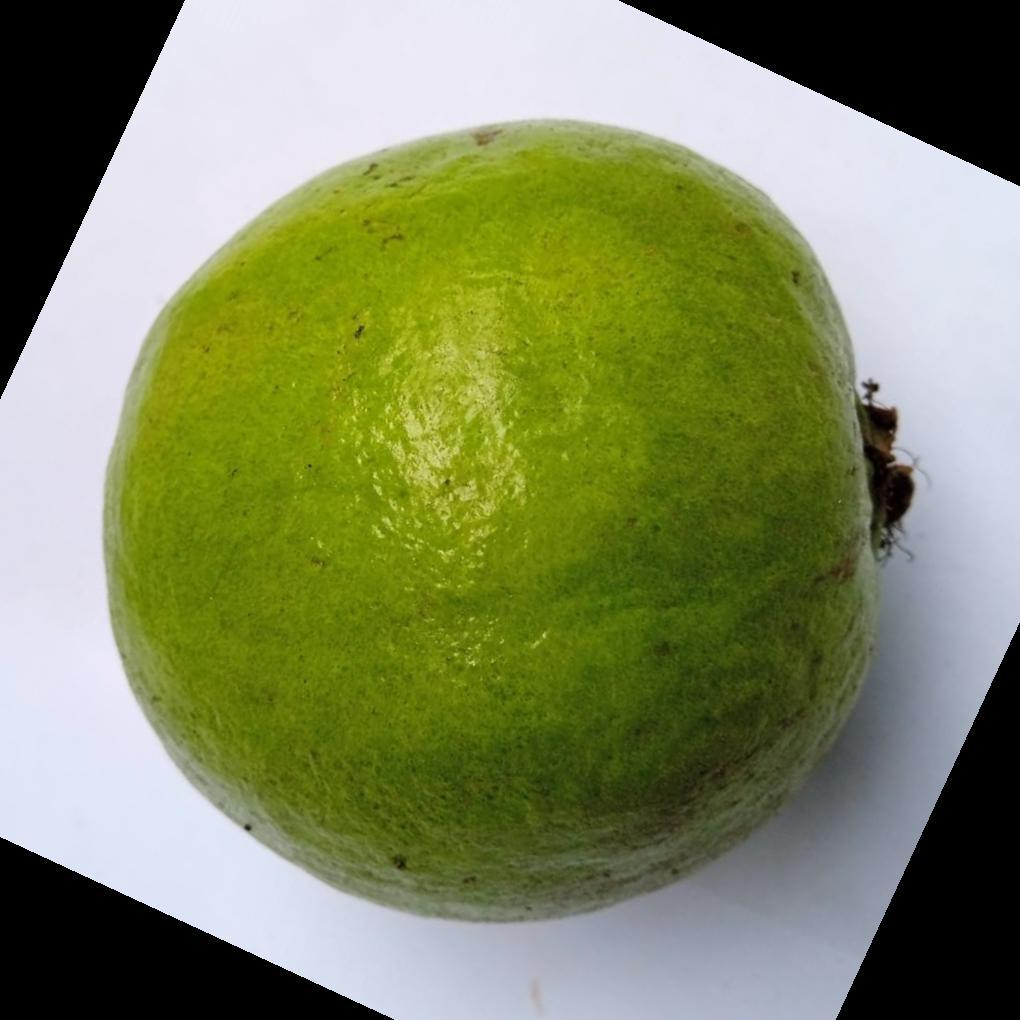FreshGuava: (98, 119, 905, 930)
